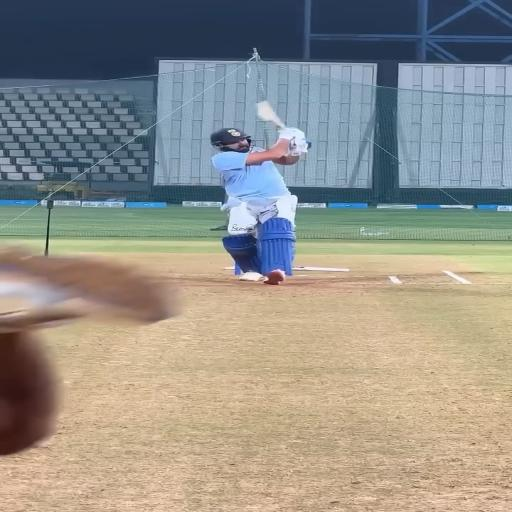Cricket bat: (257, 102, 285, 128)
